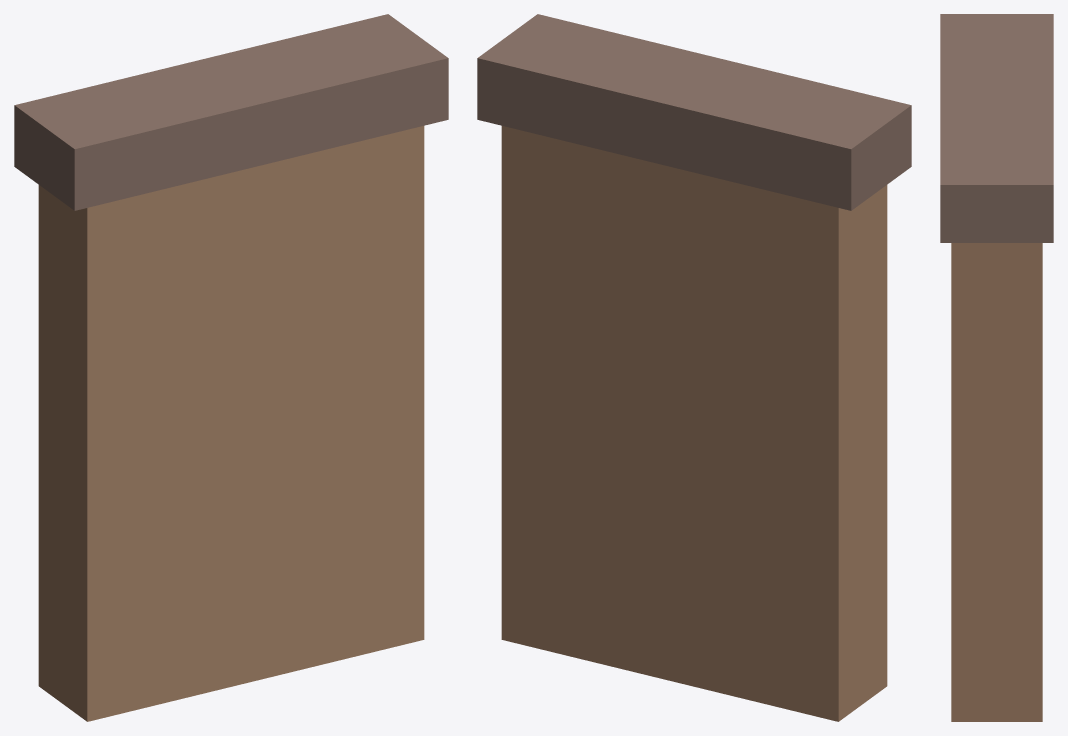
The model's file is city_wall_wood_2m.glb.
3 renders of one model, left to right at view 1: azimuth 30°, elevation 25°; view 2: azimuth 150°, elevation 25°; view 3: azimuth 270°, elevation 25°, orthographic. The views are drawn at different scales.
Parts seen in each view (by area): view 1: wood, wood_dark; view 2: wood, wood_dark; view 3: wood, wood_dark.
Boxes of the visible parts, x1,y1,x2,y2 form: wood: (38, 126, 424, 721); wood_dark: (14, 14, 448, 210); wood: (501, 126, 887, 721); wood_dark: (477, 14, 911, 210); wood: (951, 243, 1042, 721); wood_dark: (940, 14, 1053, 242).
Bounding box in the file's own units: 2.22 × 3.3 × 0.62.
